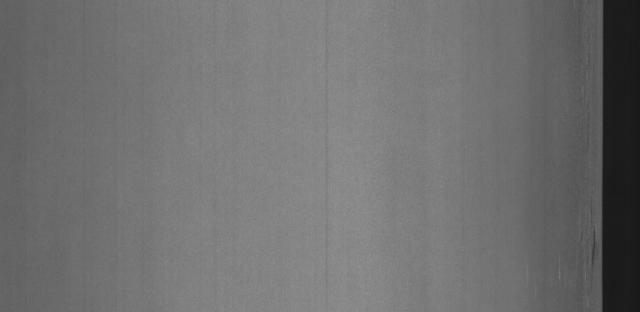silk_spot: (536, 206, 599, 296)
